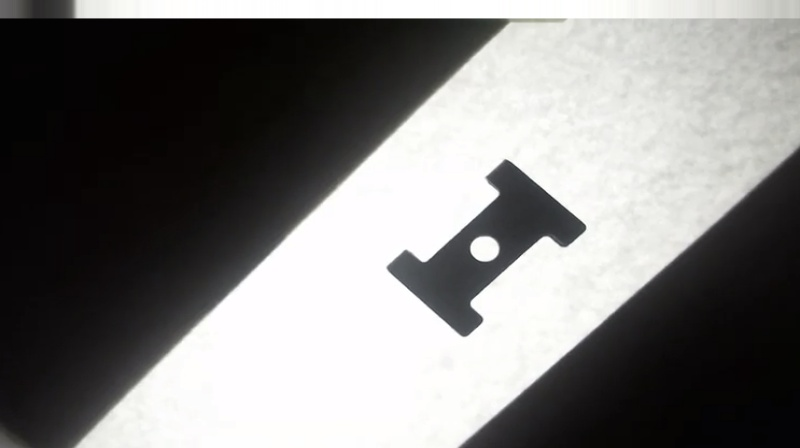O002: (383, 155, 589, 338)
